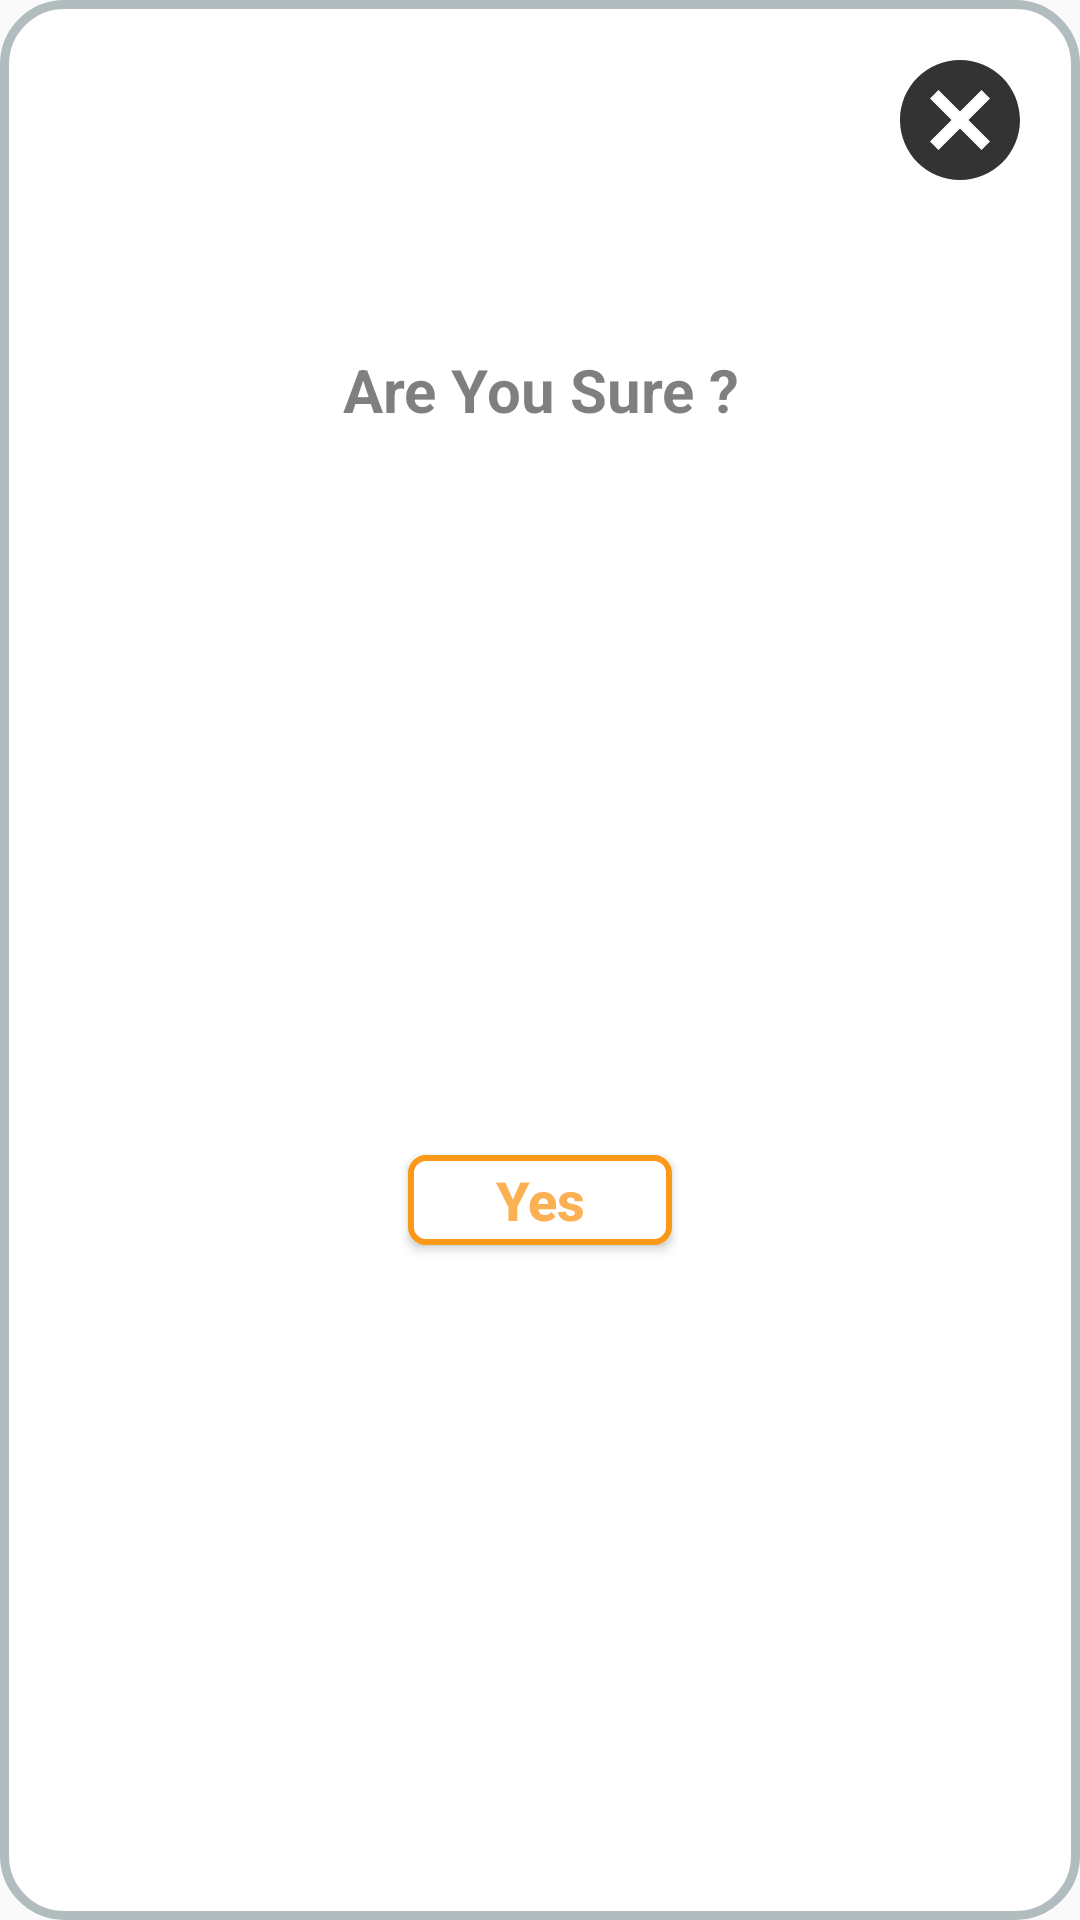

Named icons in this screenshot (1080 x 1920) and their centers, [x,y]:
cancel dialog: [960,120]
